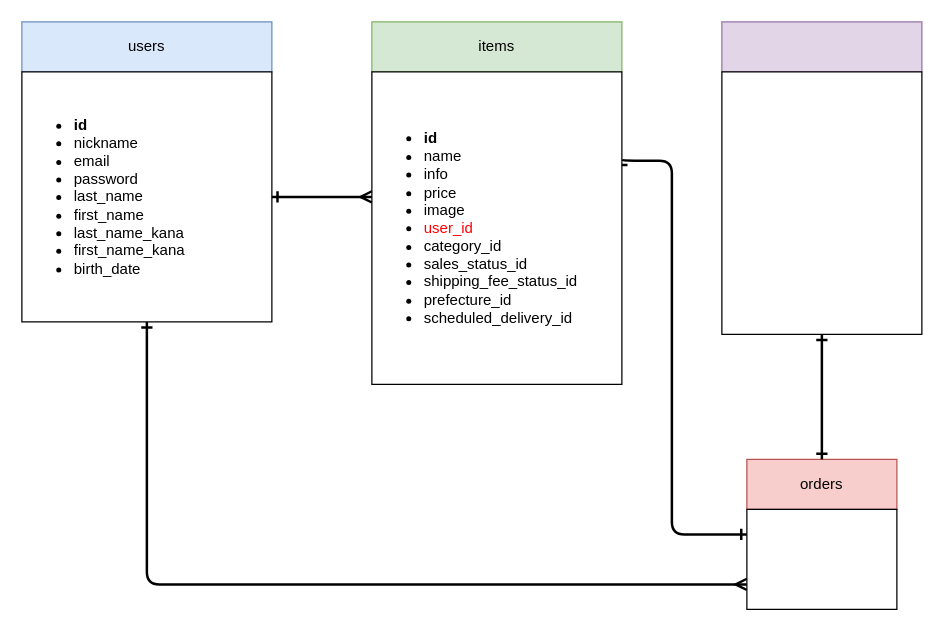
The diagram is 944 pixels wide and 631 high, and some of its shapes have lost their labels. The shapes that lost their labels are listed below. From the top down, each one's centre as x and y in pixels, then its label:
At (x=821, y=46): "addresses".
At (x=821, y=202): "id order_id postal_code prefecture_id city addresses building phone_number".
At (x=821, y=558): "id user_id item_id".
